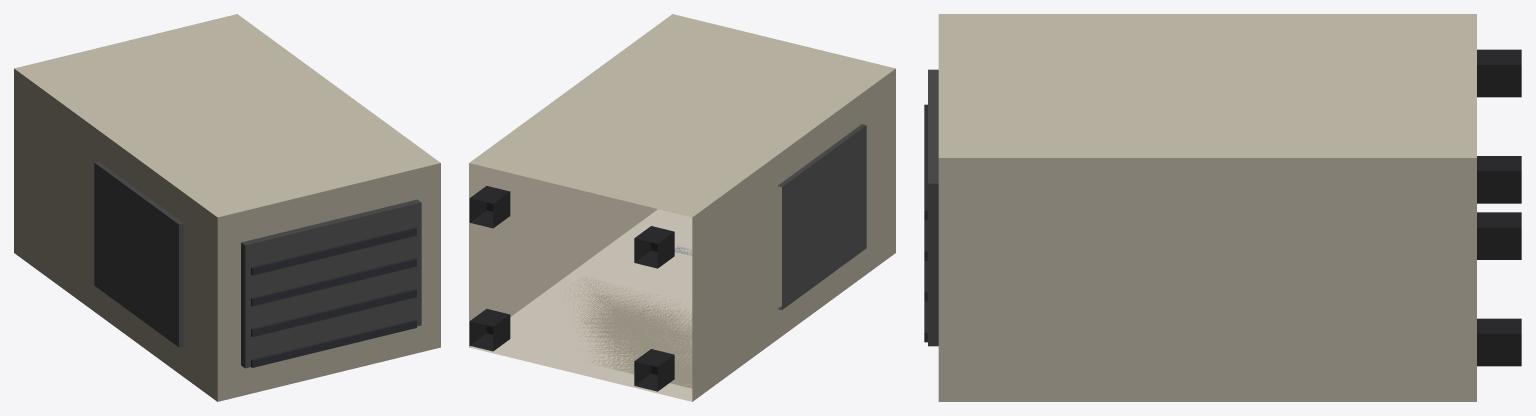
Rendered from a_dehum.obj.
3 views of the same model, side by side, from view 1: azimuth 30°, elevation 25°; view 2: azimuth 150°, elevation 25°; view 3: azimuth 270°, elevation 25° (orthographic). The views are drawn at different scales.
Size of the model in its own units: 0.388 by 0.31 by 0.666.
Materials: 1 (1 with a texture image).
